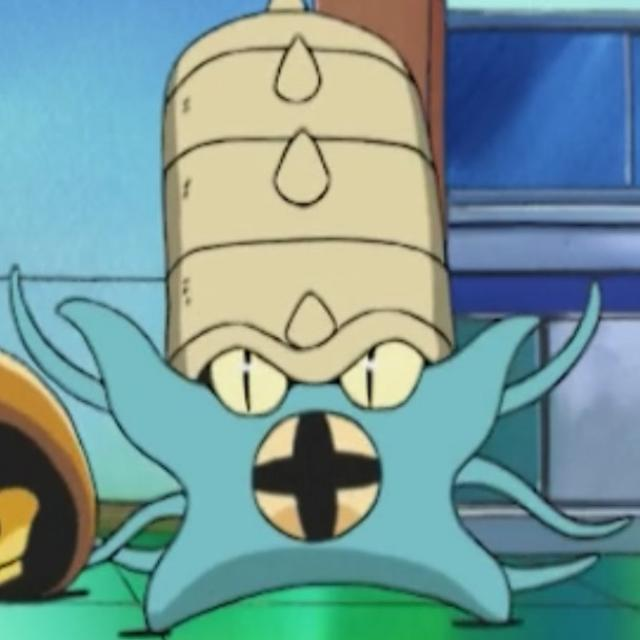Omastar: (61, 20, 542, 630)
